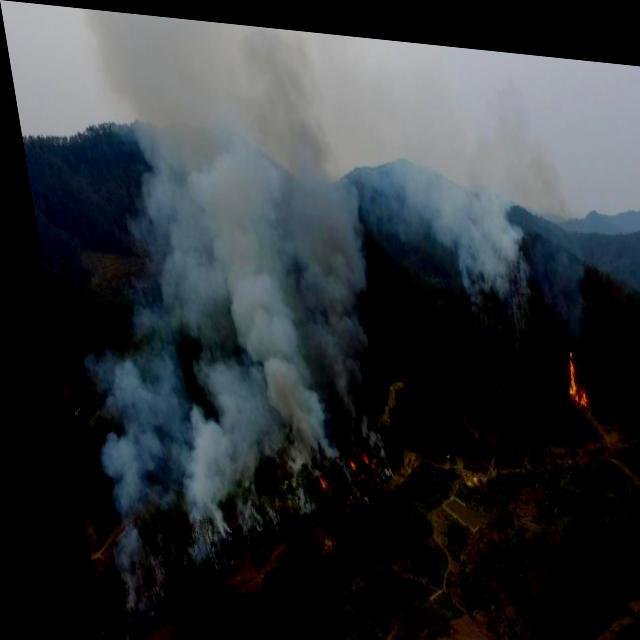Fire: (252, 371, 396, 538), (532, 320, 602, 424)
